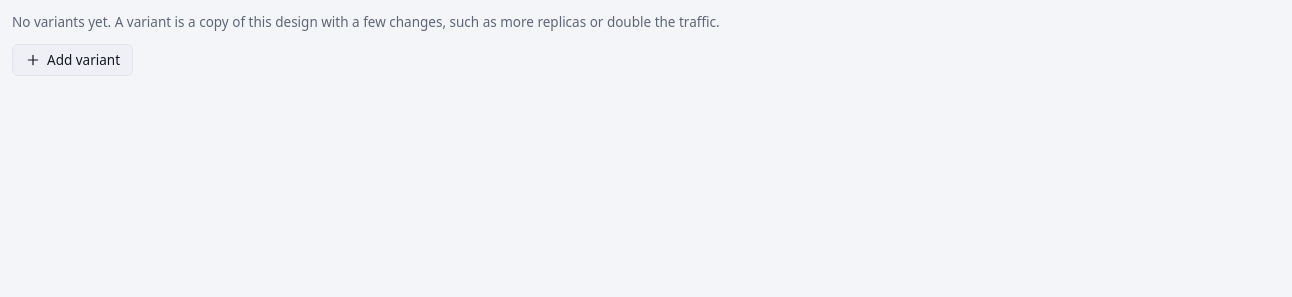
Test: VariantEditor › adds a variant that doubles traffic
This screenshot has width=1292, height=297.
Expected: the text "No variants yet" is shown, [12,13,720,31]
Click the button "Add variant". click: (72, 60)
box: [12,44,133,76]
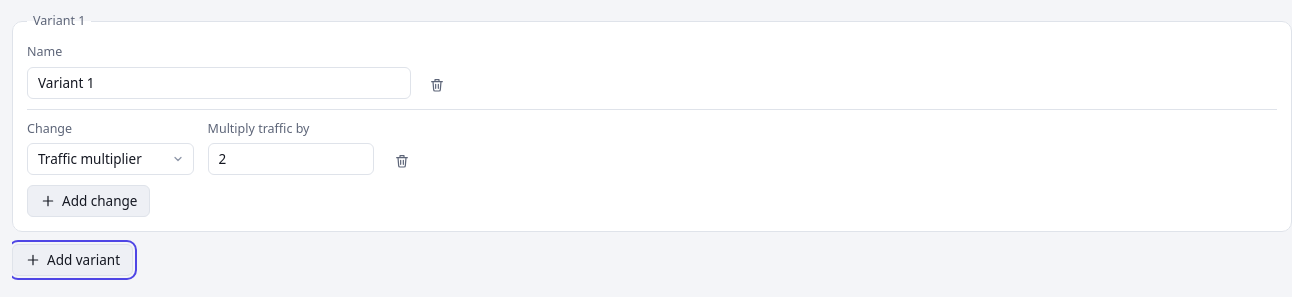
Expected: the number field labelled "Multiply traffic by" holds "2", [208,143,374,175]
